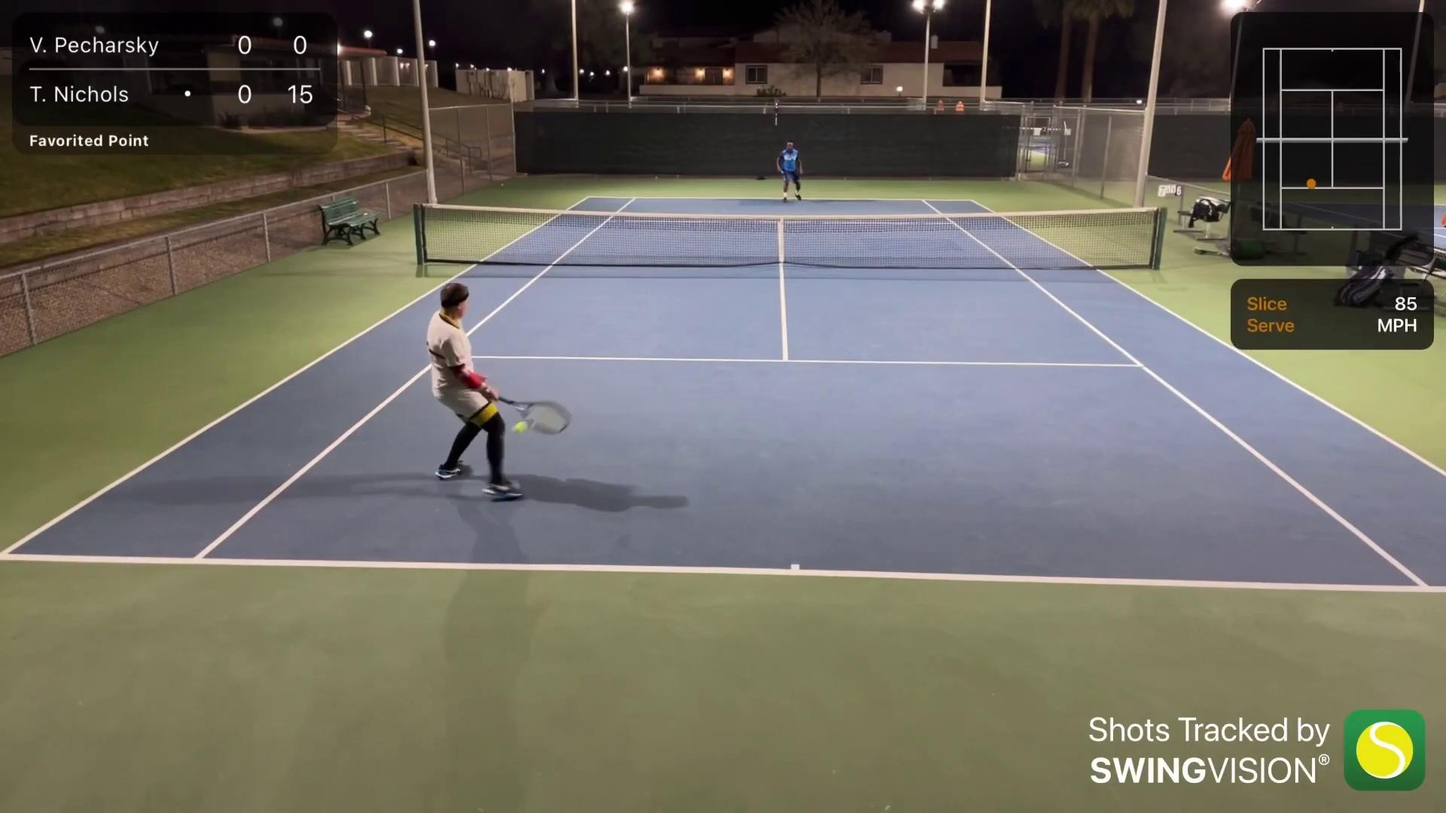ball: (508, 422, 530, 434)
